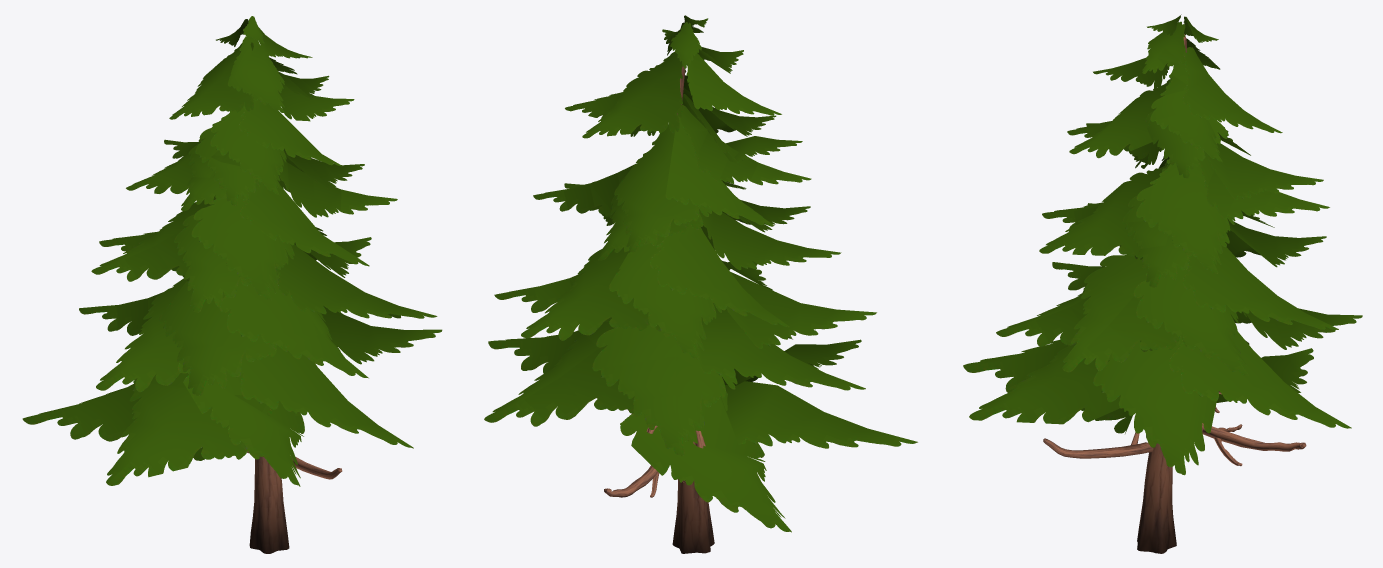
File: pine_2_lod2.glb
3 renders of one model, left to right at view 1: azimuth 30°, elevation 25°; view 2: azimuth 150°, elevation 25°; view 3: azimuth 270°, elevation 25°, orthographic. The views are drawn at different scales.
Parts seen in each view (by area): view 1: Pine_2; view 2: Pine_2; view 3: Pine_2.
Boxes of the visible parts, left/top/right/bottom form: Pine_2: left=22, top=16, right=442, bottom=553; Pine_2: left=484, top=15, right=917, bottom=553; Pine_2: left=963, top=14, right=1362, bottom=553.
Size of the model in its own units: 5.73 by 7.38 by 5.22.
2 materials, 2 textured.
